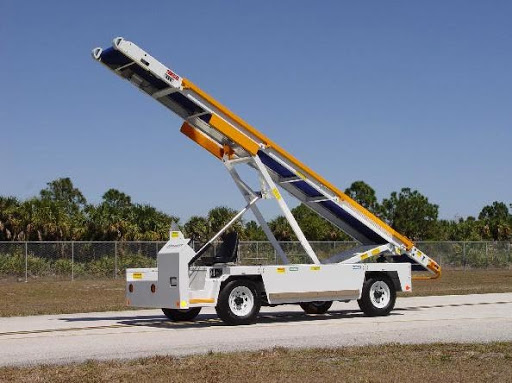baggagetruck: (85, 32, 445, 321)
